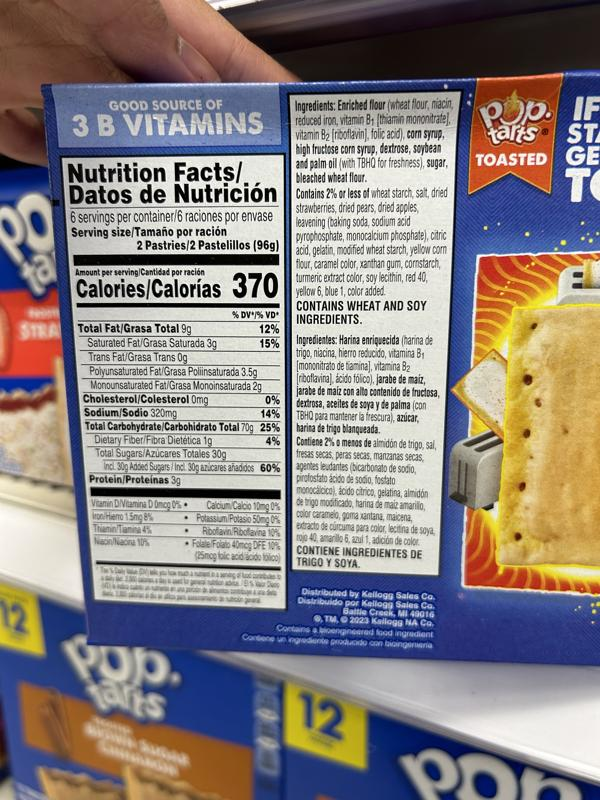ingredients: (292, 97, 455, 298)
